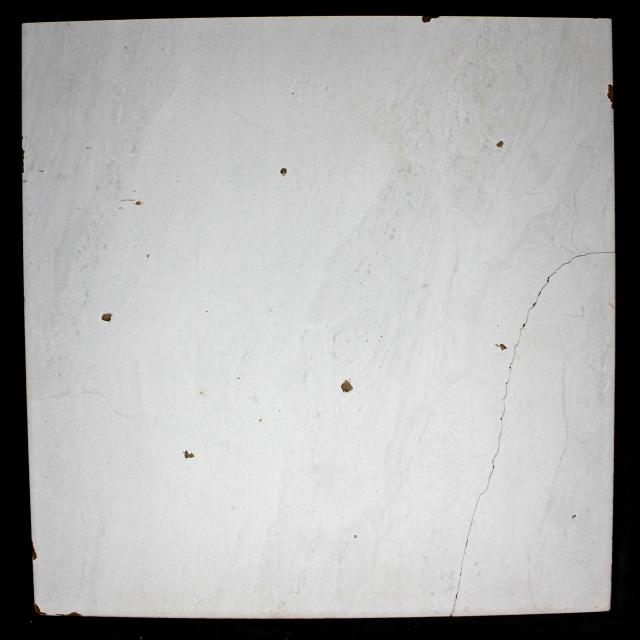edge-chipping: (34, 603, 47, 616), (606, 83, 614, 103), (32, 539, 38, 561), (55, 612, 83, 616), (22, 147, 26, 174), (421, 16, 432, 24), (610, 103, 614, 110), (433, 16, 440, 19)
hole: (340, 378, 354, 394), (101, 312, 114, 323), (494, 343, 508, 351), (183, 450, 195, 459), (279, 167, 288, 177), (496, 140, 505, 148), (133, 200, 144, 206), (571, 514, 577, 520), (353, 534, 358, 539), (522, 323, 526, 328), (509, 366, 511, 369)
line: (482, 448, 499, 494), (450, 572, 462, 617), (509, 328, 523, 365), (460, 526, 470, 572), (502, 370, 511, 405), (471, 494, 481, 525), (498, 406, 505, 447), (550, 263, 567, 277), (536, 283, 548, 301), (568, 255, 586, 263), (526, 307, 533, 323), (587, 251, 615, 254)
